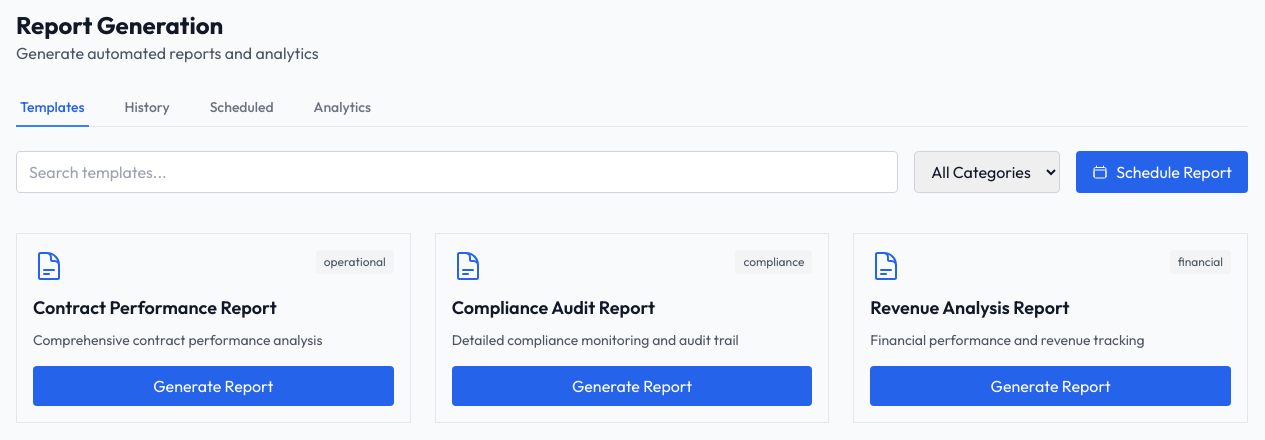
ReportGenerationSystem › Report Templates › should search templates by name
The image size is (1265, 440).
Type "Revenue" into the field with placeholder "Search templates...". click: x=457, y=172
box: [16,151,898,193]
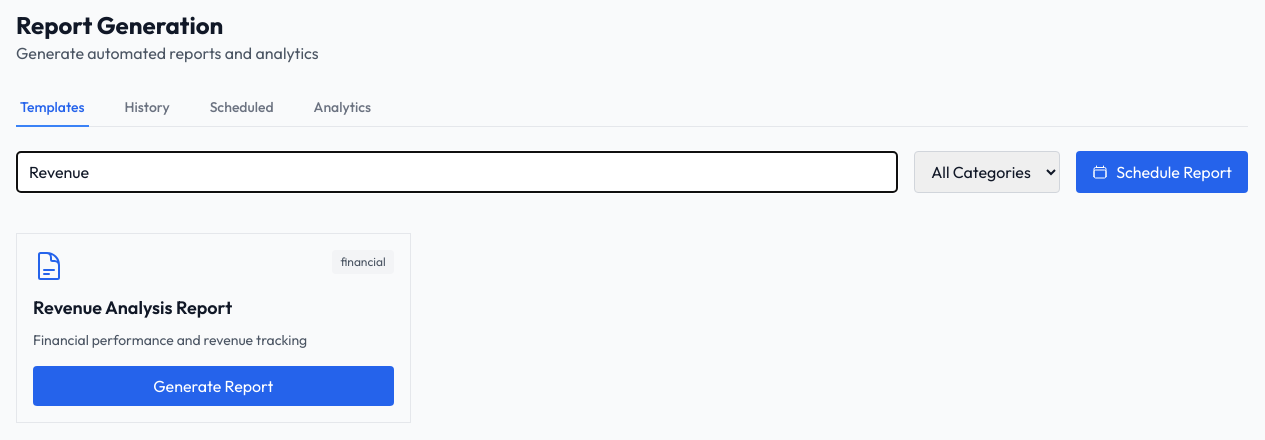
Expected: the heading "Revenue Analysis Report" is shown, [33,296,232,319]
Now the heading "Contract Performance Report" is gone
